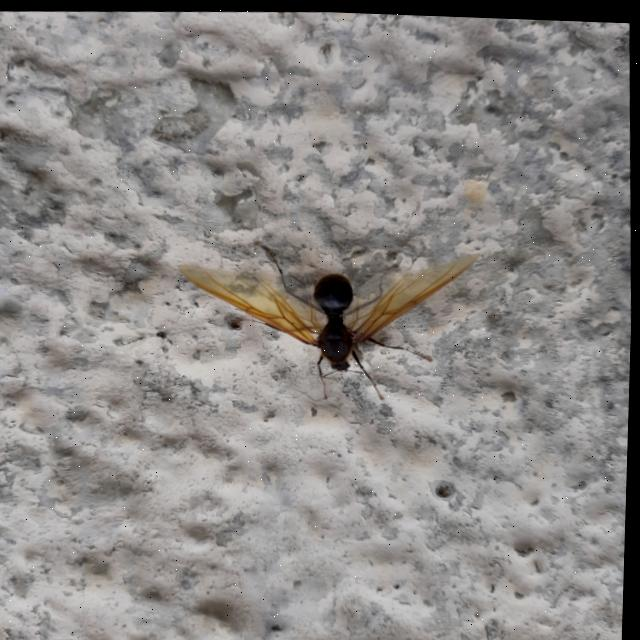Alive-Male-Alate: (175, 229, 487, 407)
